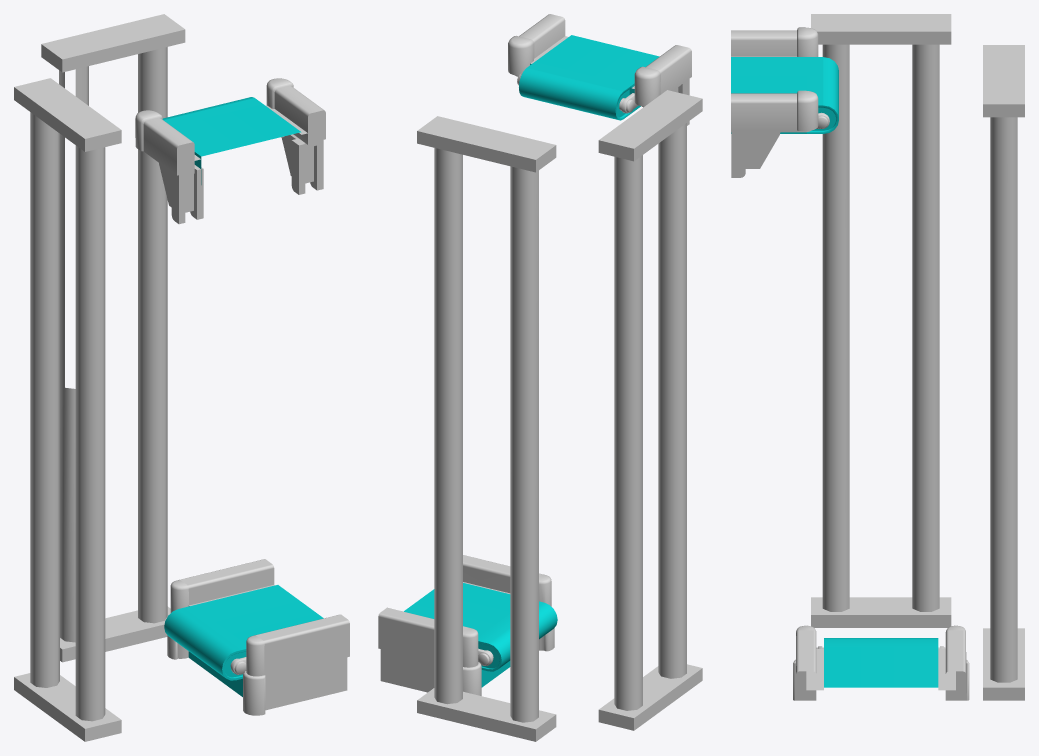
Rendered from Lift2DownRightInternalVariant.gltf.
The picture shows the model from 3 angles, left to right: view 1: azimuth 30°, elevation 25°; view 2: azimuth 150°, elevation 25°; view 3: azimuth 270°, elevation 25°; orthographic projection. The views are drawn at different scales.
Parts seen in each view (by area): view 1: Lift_2DownRight_Layer0_LOD0; view 2: Lift_2DownRight_Layer0_LOD0; view 3: Lift_2DownRight_Layer0_LOD0.
Boxes of the visible parts, x1=… form: Lift_2DownRight_Layer0_LOD0: x1=14, y1=14, x2=349, y2=741; Lift_2DownRight_Layer0_LOD0: x1=378, y1=14, x2=702, y2=741; Lift_2DownRight_Layer0_LOD0: x1=731, y1=14, x2=1024, y2=700.
Bounding box in the file's own units: 0.9812 × 2.27 × 0.9812.
